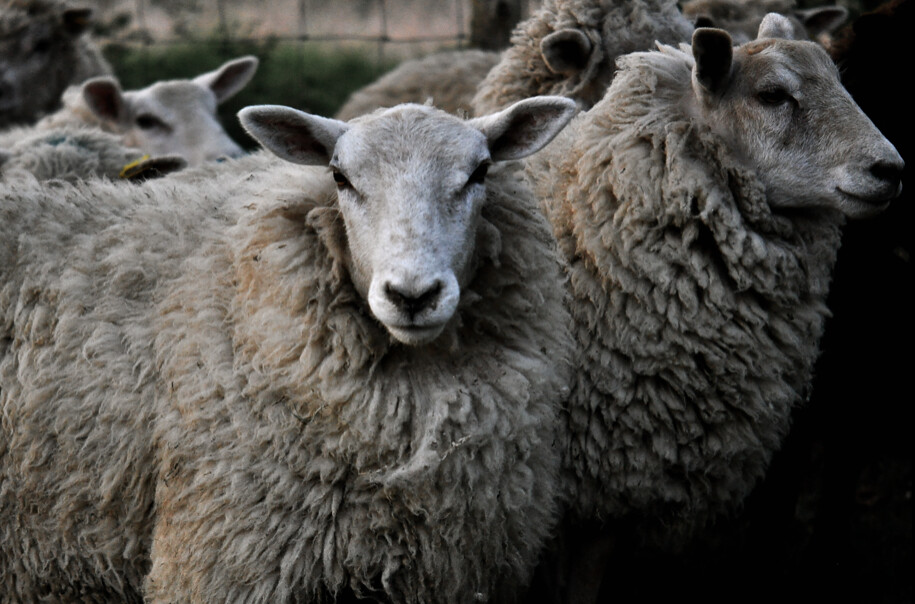sheep: (7, 107, 580, 604), (553, 29, 905, 514)
